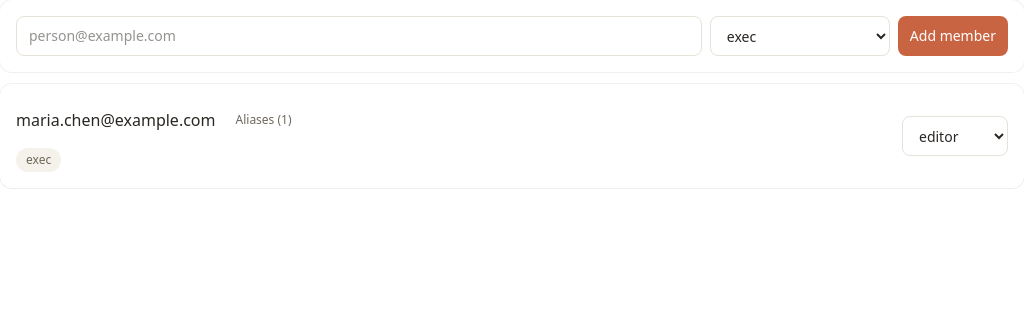
it: AccessMembers › counts a person's aliases on the toggle and opens their panel
Click the button "Aliases (1)": {"x": 264, "y": 120} [224, 100, 304, 140]
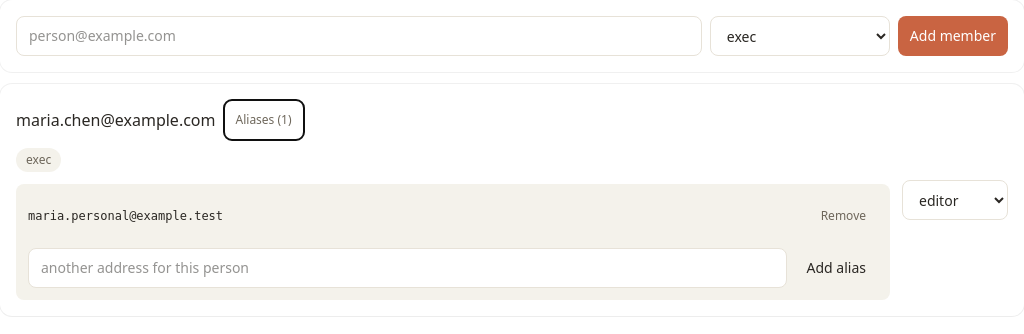
Result: the text "maria.personal@example.test" is shown at [28, 208, 223, 224]
